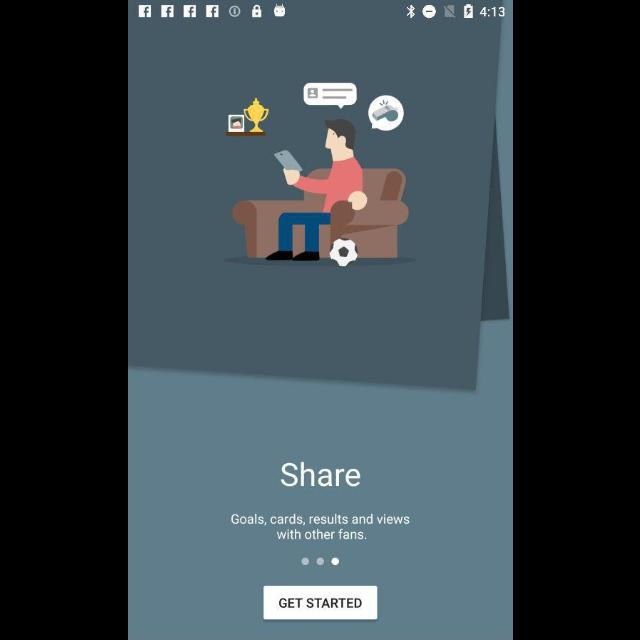image: (225, 83, 418, 269)
pageindicator: (300, 556, 340, 566)
text: (230, 514, 410, 540), (280, 461, 360, 487)
textbutton: (263, 586, 377, 620)
uppertaskbar: (128, 1, 512, 23)
